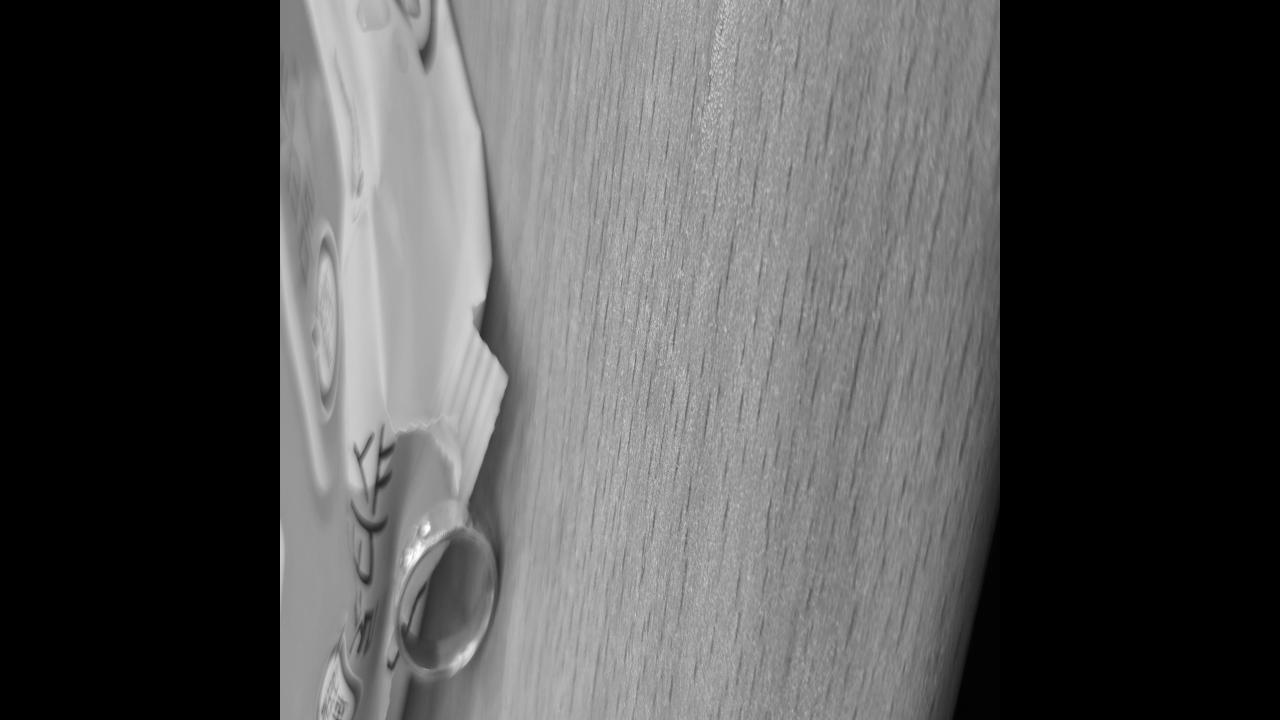ring: (392, 502, 499, 680)
